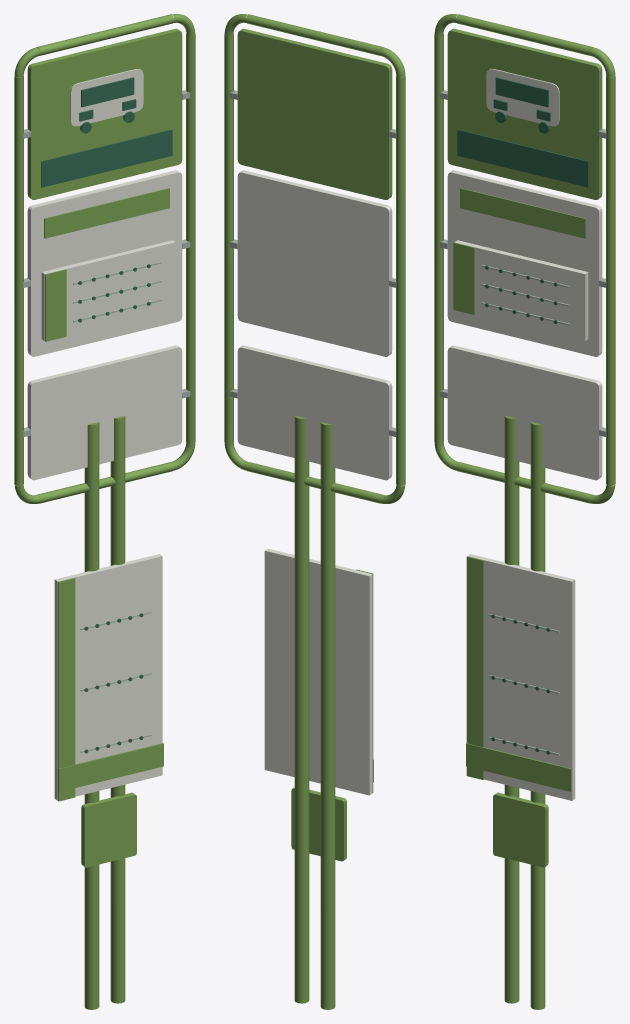
Rendered from bus-approved-v1.glb.
The picture shows the model from 3 angles, left to right: view 1: azimuth 30°, elevation 25°; view 2: azimuth 150°, elevation 25°; view 3: azimuth 330°, elevation 25°; orthographic projection.
Parts seen in each view (by area): view 1: 마포 마을버스 정류장 · 사용자 사진; view 2: 마포 마을버스 정류장 · 사용자 사진; view 3: 마포 마을버스 정류장 · 사용자 사진.
Part boxes in pixels (left/top/right/bottom): 마포 마을버스 정류장 · 사용자 사진: left=14, top=14, right=195, bottom=1009; 마포 마을버스 정류장 · 사용자 사진: left=224, top=14, right=405, bottom=1009; 마포 마을버스 정류장 · 사용자 사진: left=434, top=14, right=615, bottom=1009.
Bounding box in the file's own units: 0.618 × 3.19 × 0.063.
